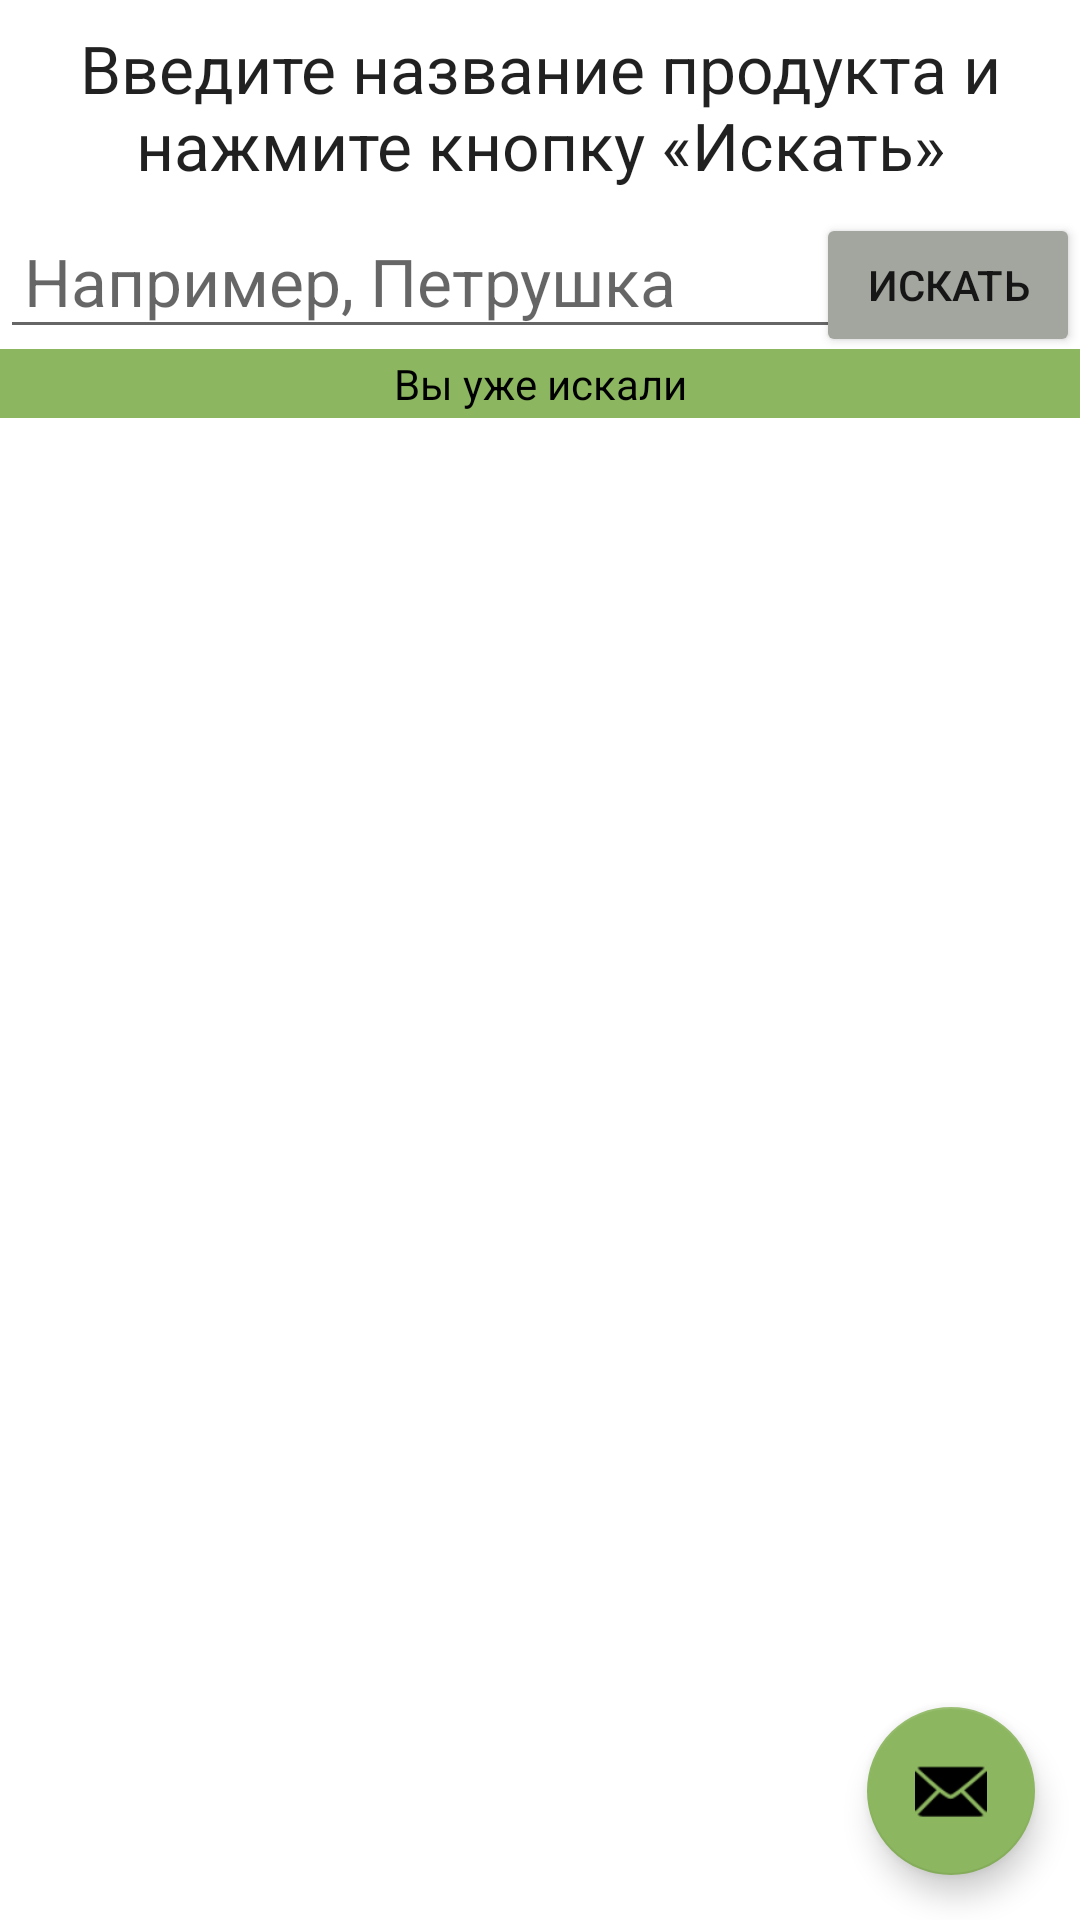

Screen size 1080×1920. Icon name, then its center in pixels as [x,y]:
email: [951,1791]
